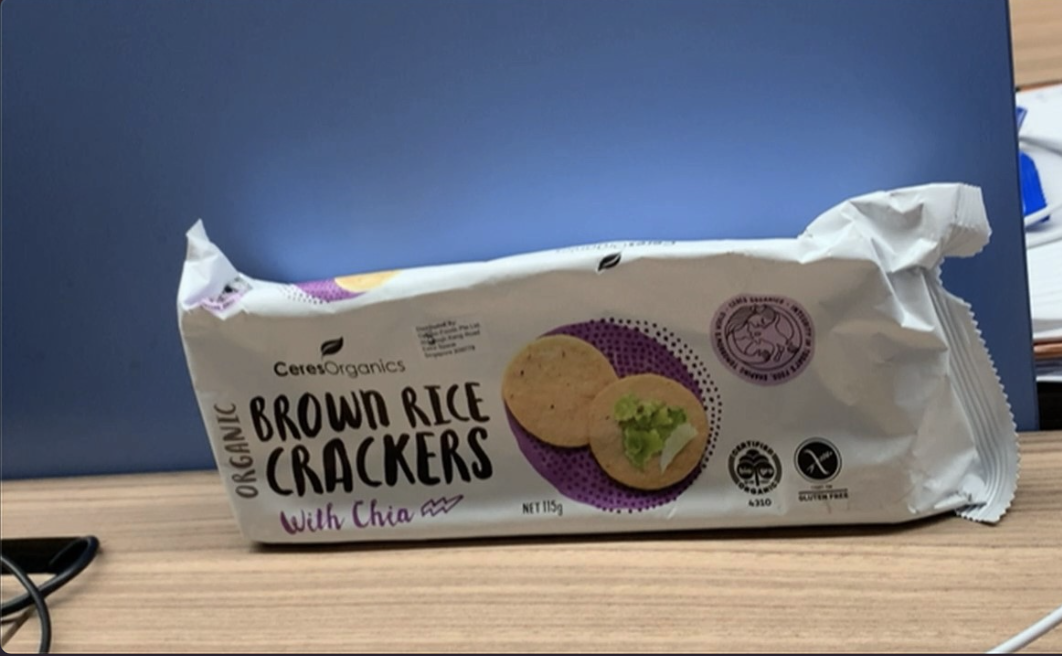crackers_100g-199g: (228, 300, 897, 524)
